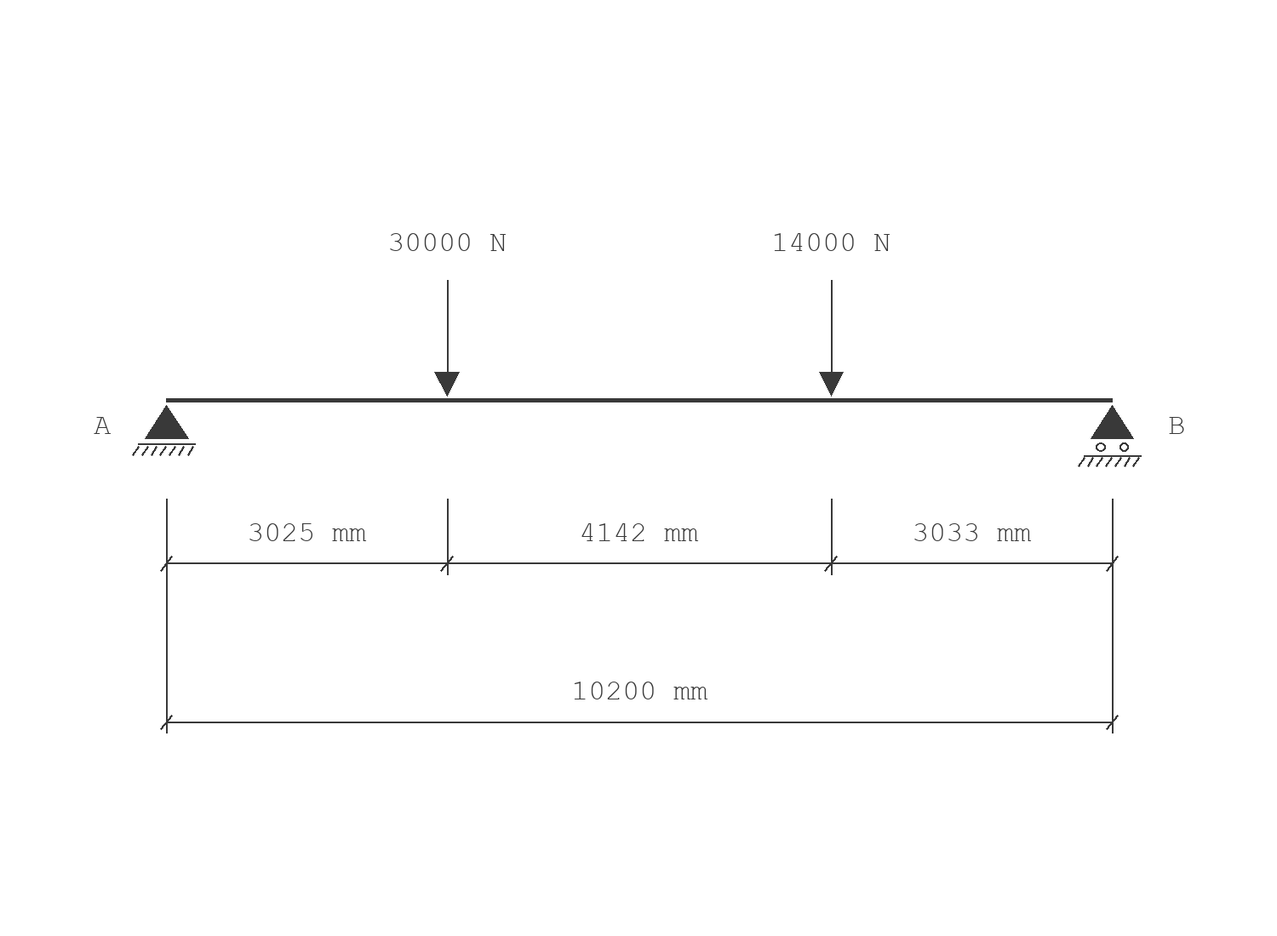pin_support: (132, 405, 196, 456)
point_load: (434, 280, 460, 397), (819, 280, 844, 397)
roller_support: (1078, 405, 1142, 467)
